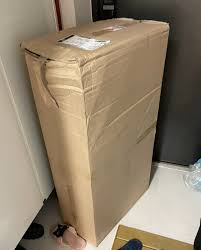damaged package: (20, 49, 57, 107)
